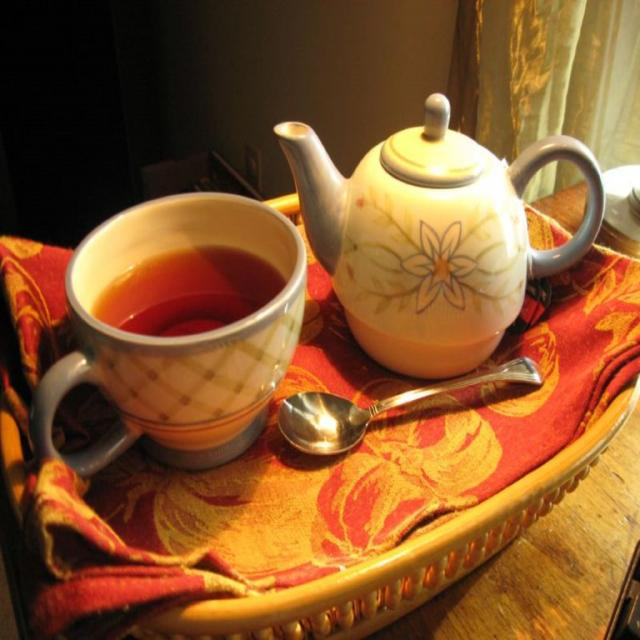Tea: (64, 187, 310, 430), (93, 247, 284, 335)
